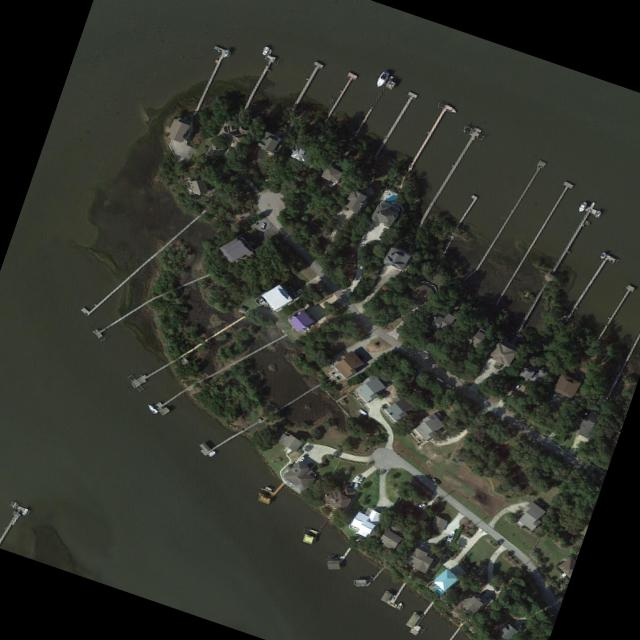ship: (372, 68, 390, 88), (575, 199, 587, 212), (145, 401, 158, 413), (444, 528, 455, 541), (290, 287, 302, 296), (355, 407, 367, 415), (260, 44, 269, 54), (221, 48, 229, 57), (598, 250, 606, 259), (592, 208, 600, 217), (20, 506, 28, 514), (394, 601, 402, 609), (351, 473, 359, 481), (206, 449, 215, 456), (263, 485, 272, 490)
small-vehicle: (416, 540, 426, 548), (445, 382, 454, 389), (298, 453, 306, 460), (483, 591, 490, 599), (435, 375, 443, 382), (356, 476, 363, 483), (514, 381, 521, 388), (351, 482, 358, 488), (422, 544, 428, 551), (347, 480, 353, 486), (417, 502, 425, 506), (260, 221, 264, 228)
